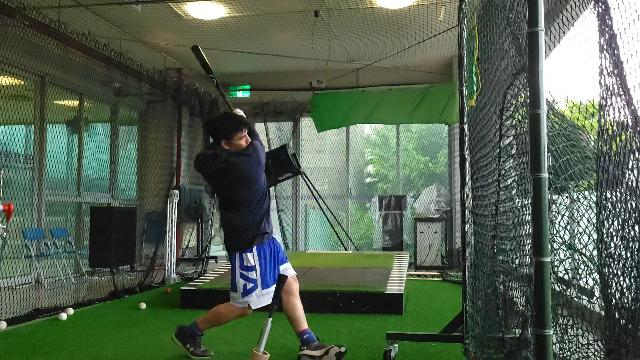baseball bat: (192, 42, 234, 112)
